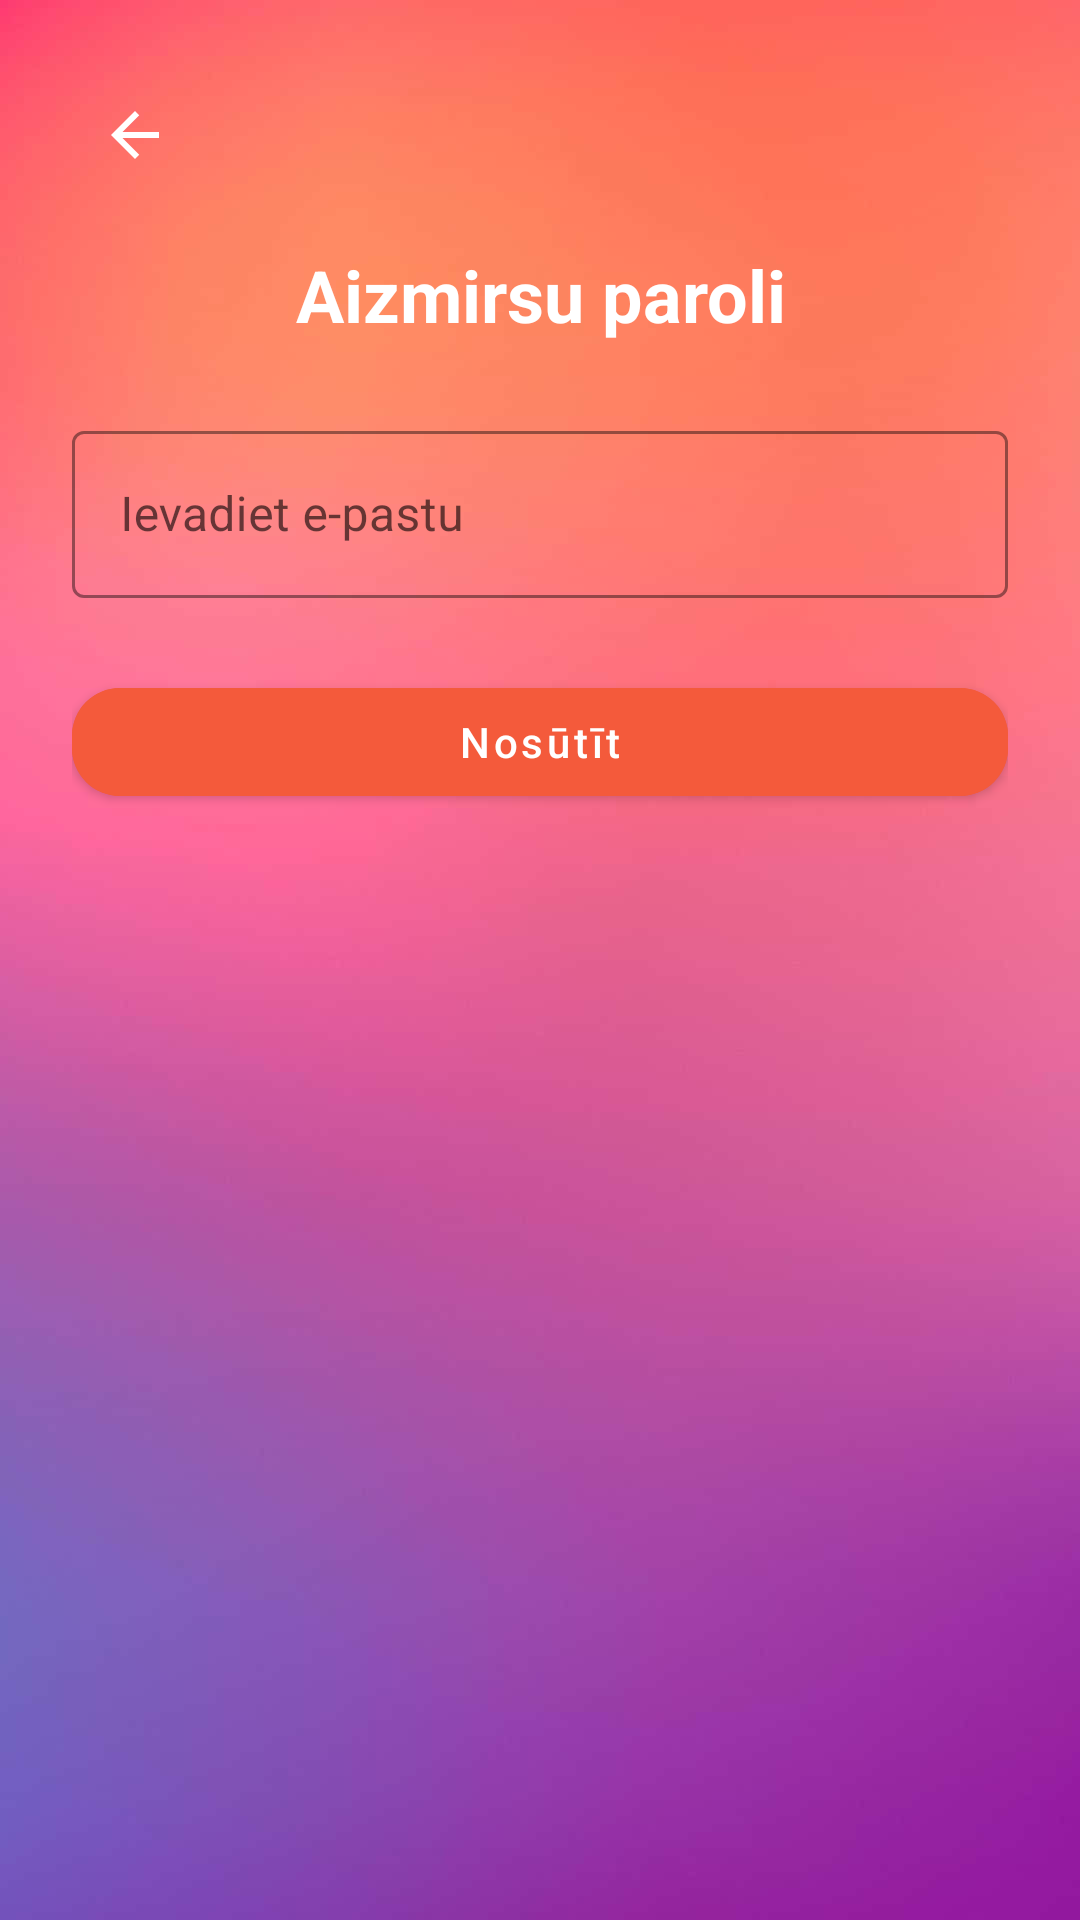

Screen size 1080px×1920px. Icon name, then its center in pixels as (x=x, y=y):
Atpakaļ: (x=135, y=135)
